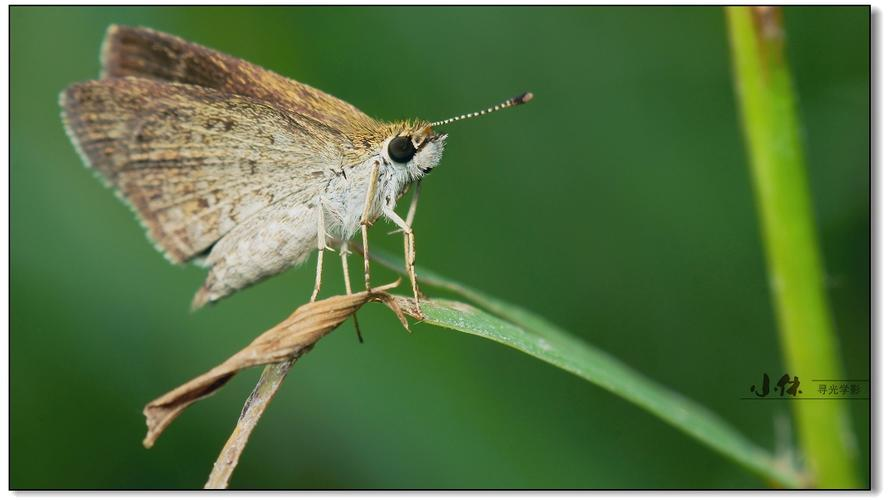Hesperiidae: (51, 18, 547, 306)
